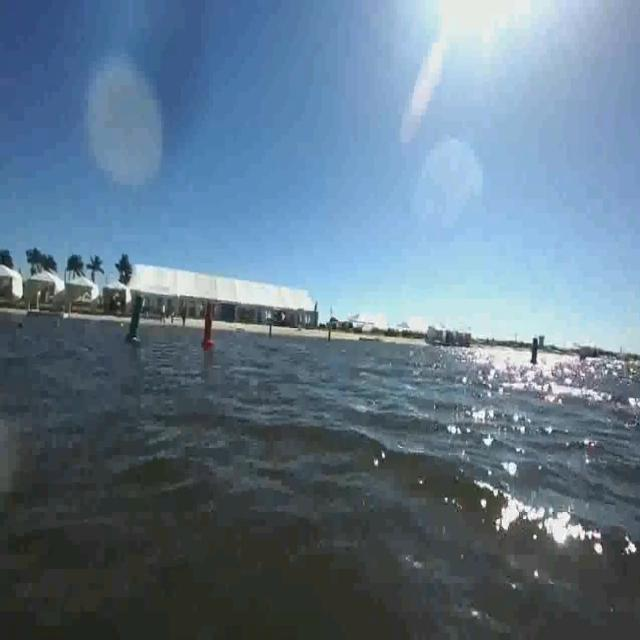green-column-buoy: (127, 294, 147, 346)
red-column-buoy: (202, 308, 216, 350)
